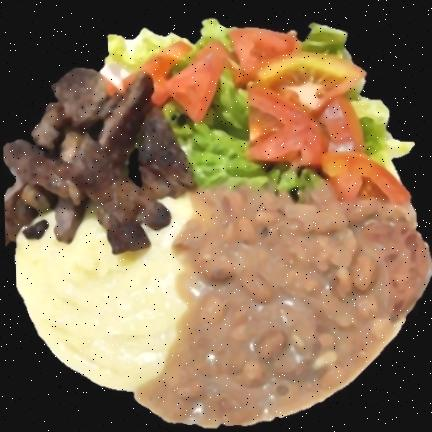beans: (135, 187, 430, 427)
meat: (3, 68, 194, 254)
potato: (15, 198, 191, 391)
salad: (163, 70, 316, 191)
tomato: (164, 27, 409, 203)
